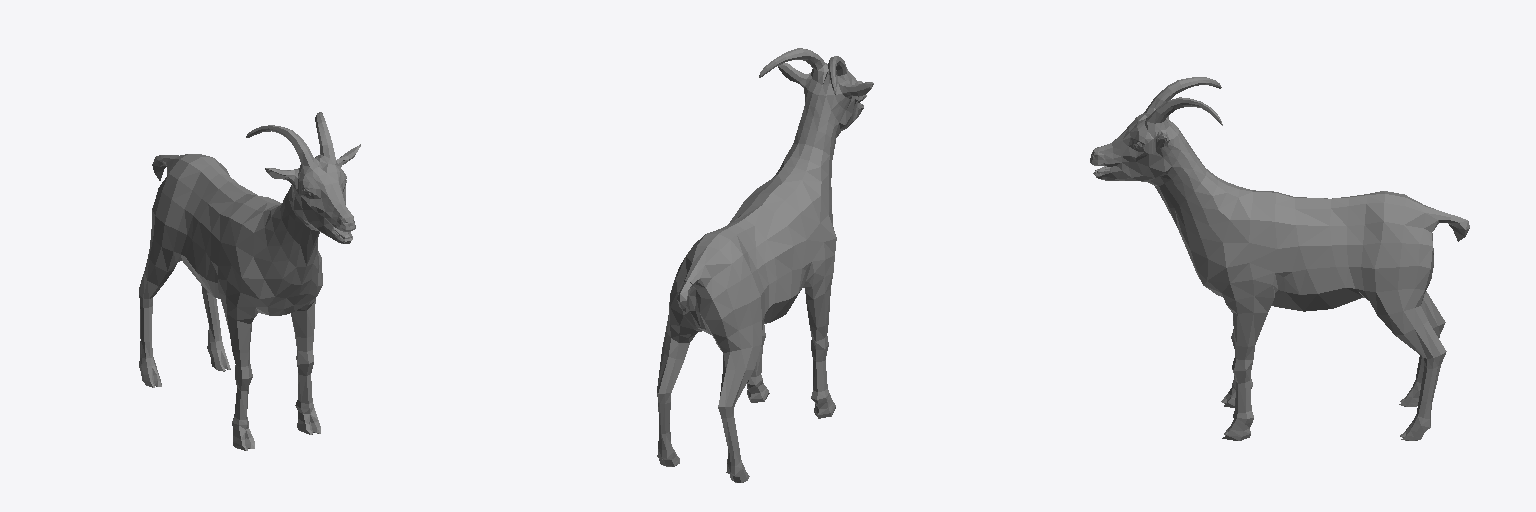
Rendered from shittyGoat.obj.
The picture shows the model from 3 angles: view 1: azimuth 30°, elevation 25°; view 2: azimuth 150°, elevation 25°; view 3: azimuth 270°, elevation 25°; orthographic projection.
Visible parts, largest first — view 1: Goat; view 2: Goat; view 3: Goat.
Boxes of the visible parts, <box> form: Goat: <box>139,112,360,450</box>; Goat: <box>657,48,873,482</box>; Goat: <box>1090,77,1469,440</box>.
Size of the model in its own units: 1.63 by 5.36 by 5.53.